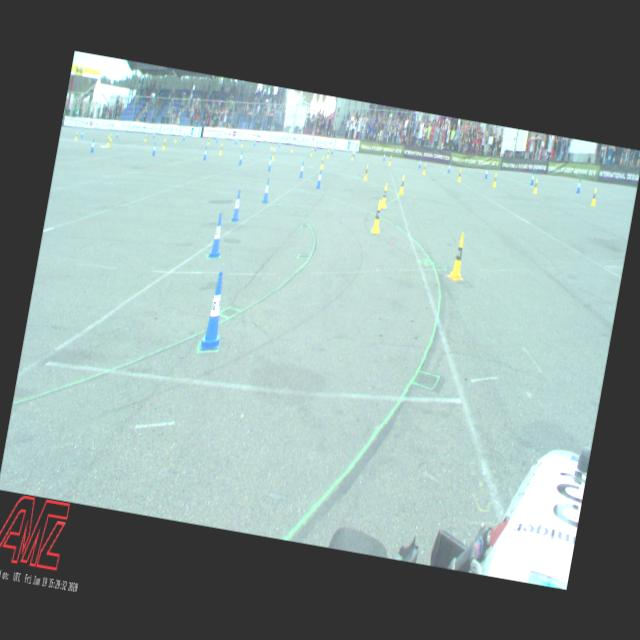blue_cone: (200, 270, 232, 352), (208, 212, 226, 258), (230, 188, 244, 223), (260, 176, 272, 204), (315, 167, 323, 188), (298, 160, 305, 179), (266, 156, 273, 172), (575, 178, 582, 194), (237, 149, 244, 165), (530, 170, 536, 186), (90, 139, 96, 153), (202, 146, 208, 160), (446, 161, 452, 174), (152, 142, 156, 154), (484, 167, 488, 179), (418, 158, 422, 169), (80, 128, 84, 138), (382, 151, 386, 160), (234, 136, 238, 144), (331, 146, 334, 156), (314, 142, 317, 152), (215, 134, 218, 144), (115, 130, 118, 139), (253, 138, 256, 146), (182, 132, 185, 139), (152, 130, 155, 136), (278, 139, 280, 148)
yellow_cone: (448, 231, 468, 281), (370, 198, 384, 234), (380, 182, 390, 208), (398, 173, 407, 195), (362, 162, 370, 182), (590, 187, 598, 207), (532, 178, 539, 195), (105, 134, 112, 148), (492, 172, 498, 188), (456, 168, 462, 183), (319, 156, 325, 170), (218, 142, 224, 156), (421, 162, 427, 174), (271, 148, 276, 162), (387, 154, 392, 167), (290, 142, 294, 154), (326, 148, 330, 159), (309, 146, 313, 157), (350, 150, 354, 161), (270, 140, 274, 150), (162, 138, 166, 148), (109, 132, 112, 143), (74, 132, 78, 140), (144, 132, 147, 141), (240, 139, 243, 147), (207, 136, 210, 144), (174, 135, 177, 142)
